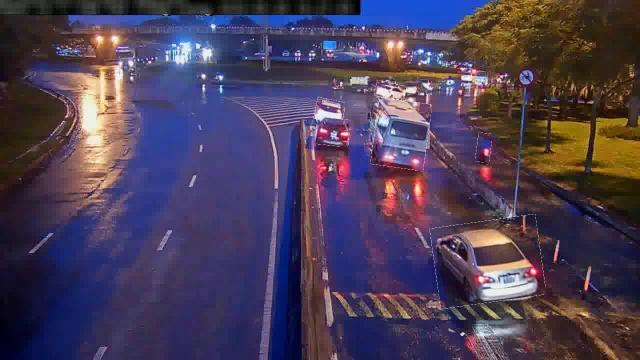Bike: (476, 133, 492, 163)
Bus: (374, 99, 431, 169)
Car: (432, 218, 544, 306), (316, 118, 350, 146), (315, 98, 345, 122), (374, 82, 406, 100)
